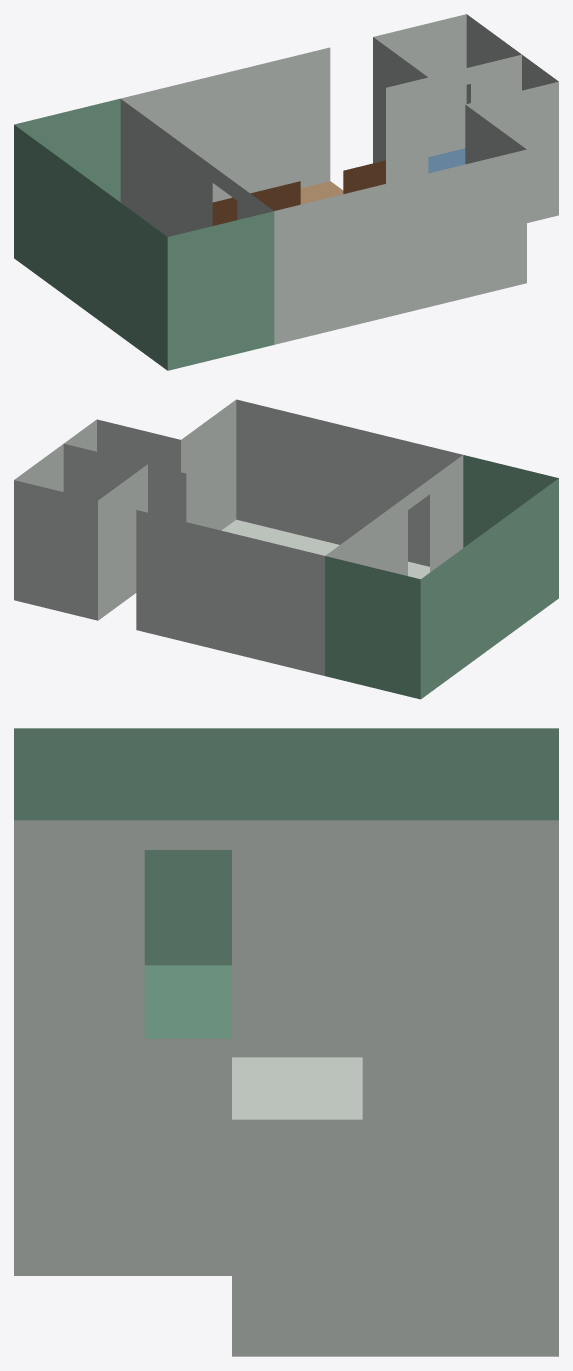
The model's file is apartment_presentation.fbx.
The picture shows the model from 3 angles, top to bottom: view 1: azimuth 30°, elevation 25°; view 2: azimuth 150°, elevation 25°; view 3: azimuth 270°, elevation 25°; orthographic projection. The views are drawn at different scales.
Visible parts, largest first — view 1: Wall_B06, Wall_B01, Wall_B16, Wall_B03, Wall_B05, Wall_B08, Wall_B10, Wall_B02, Wall_B13, Wall_B11, Wall_B09, Wall_B07 (+8 smaller); view 2: Wall_B16, Wall_B06, Wall_B01, Wall_B02, Wall_B10, Wall_B07, Wall_B11, Wall_B03, Wall_B05, Wall_B04, Wall_B08, Wall_B12 (+4 smaller); view 3: Wall_B09, Wall_B05, Wall_B01, Wall_B07, Wall_B04, Wall_B11, Floor_living_room, Floor_balcony, Header_D01_UNMEASURED.
Boxes of the visible parts, <box> form: Wall_B06: <box>274,149,526,344</box>; Wall_B01: <box>14,125,167,370</box>; Wall_B16: <box>121,47,330,202</box>; Wall_B03: <box>167,211,274,370</box>; Wall_B05: <box>120,99,212,236</box>; Wall_B08: <box>465,81,558,222</box>; Wall_B10: <box>373,14,466,156</box>; Wall_B02: <box>14,98,120,202</box>; Wall_B13: <box>386,77,428,183</box>; Wall_B11: <box>373,37,427,163</box>; Wall_B09: <box>466,14,558,103</box>; Wall_B07: <box>465,104,526,164</box>; Wall_B16: <box>136,510,324,675</box>; Wall_B06: <box>236,399,462,566</box>; Wall_B01: <box>420,478,558,699</box>; Wall_B02: <box>325,556,420,699</box>; Wall_B10: <box>14,480,97,620</box>; Wall_B07: <box>181,400,236,530</box>; Wall_B11: <box>98,464,147,620</box>; Wall_B03: <box>463,455,558,547</box>; Wall_B05: <box>325,495,407,575</box>; Wall_B04: <box>430,455,463,572</box>; Wall_B08: <box>97,419,180,491</box>; Wall_B12: <box>63,444,109,500</box>; Wall_B09: <box>232,1119,558,1356</box>; Wall_B05: <box>232,820,558,1057</box>; Wall_B01: <box>14,728,558,965</box>; Wall_B07: <box>14,1038,231,1275</box>; Wall_B04: <box>14,820,144,1038</box>; Wall_B11: <box>362,1038,558,1119</box>; Floor_living_room: <box>232,1057,362,1119</box>; Floor_balcony: <box>144,965,231,1038</box>; Header_D01_UNMEASURED: <box>144,820,231,849</box>.
Bounding box in the file's own units: 8.5 × 2.4 × 5.
